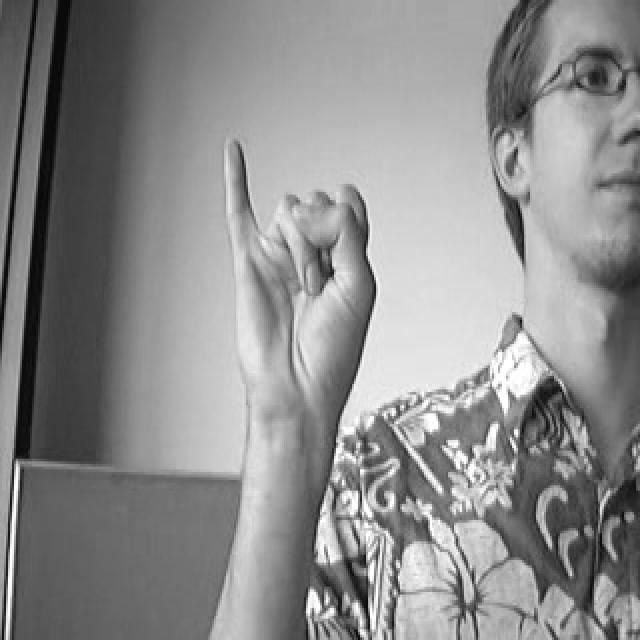I: (209, 120, 389, 415)
